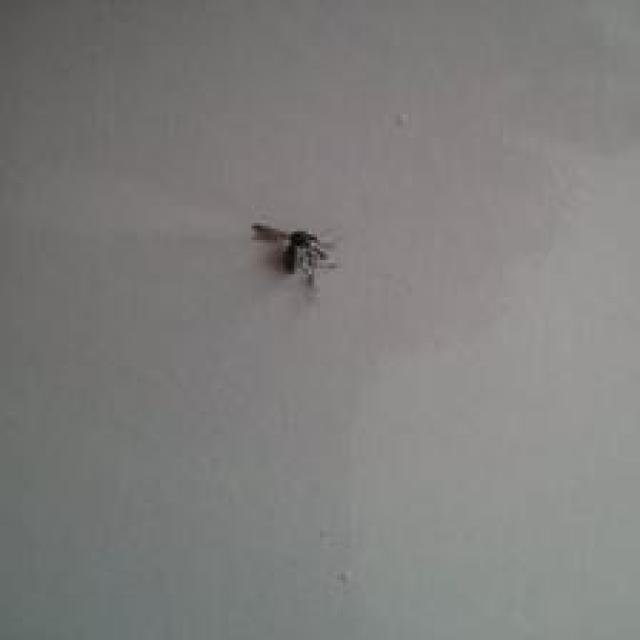Aedes albopictus: (249, 220, 337, 289)
